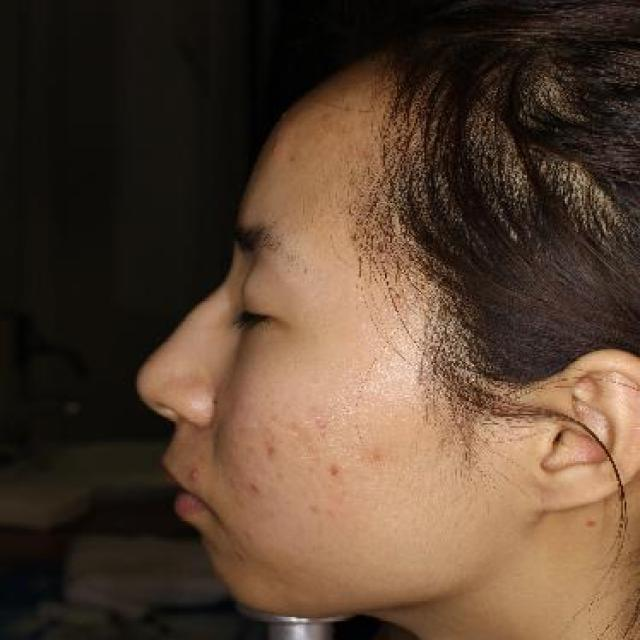Acne: (366, 442, 392, 469), (262, 437, 284, 466), (186, 465, 205, 482)
Blackheads: (320, 462, 346, 484), (241, 480, 267, 498)
